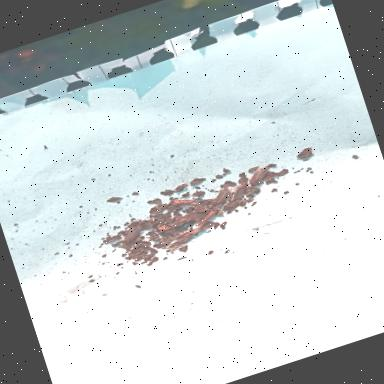pbw: (165, 222, 210, 244), (190, 206, 224, 228), (246, 163, 276, 187), (163, 232, 197, 252), (119, 223, 146, 244), (209, 184, 234, 206), (226, 180, 252, 201), (168, 192, 198, 210)
